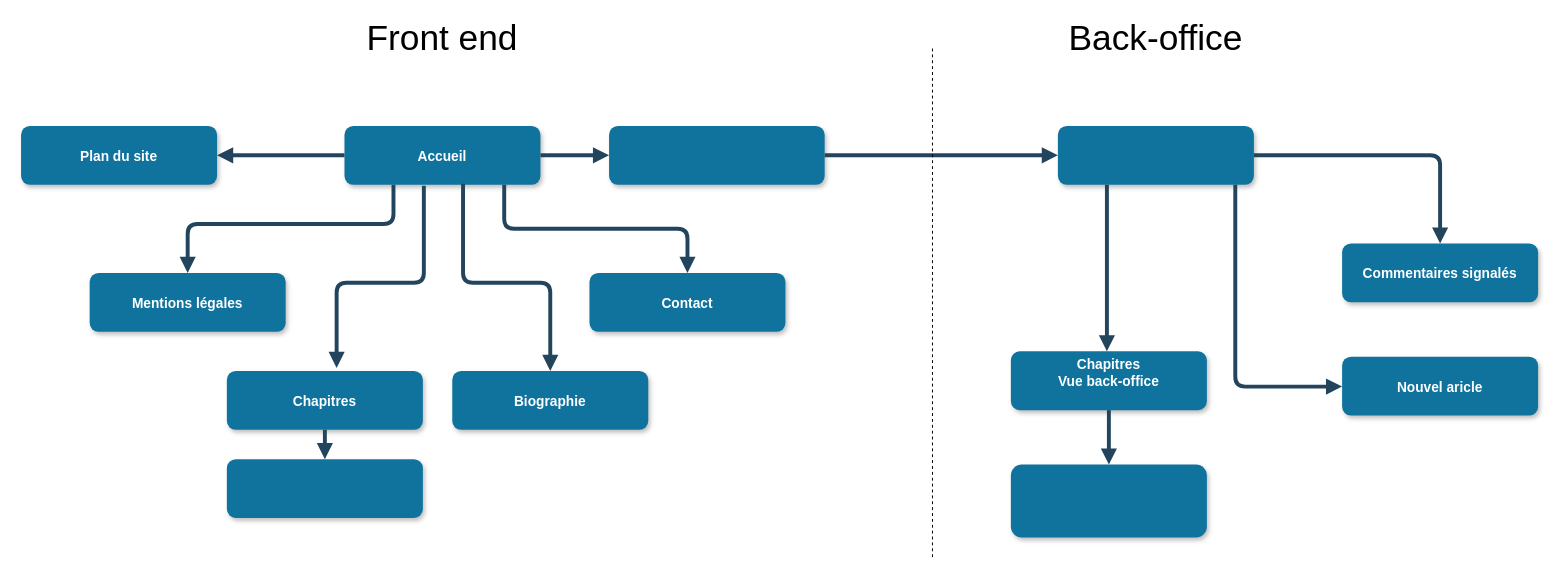
Some shapes in this 1560 by 575 pixel diagram are drawn without their labels. Each missing label, with the centre of its shape:
Chapitre commentaires: point (325, 489)
Chapitre Vue back-office Édition/suppression chapitre/commentaires: point (1109, 502)
Login: point (717, 156)
Panneau d'admin.: point (1156, 156)
